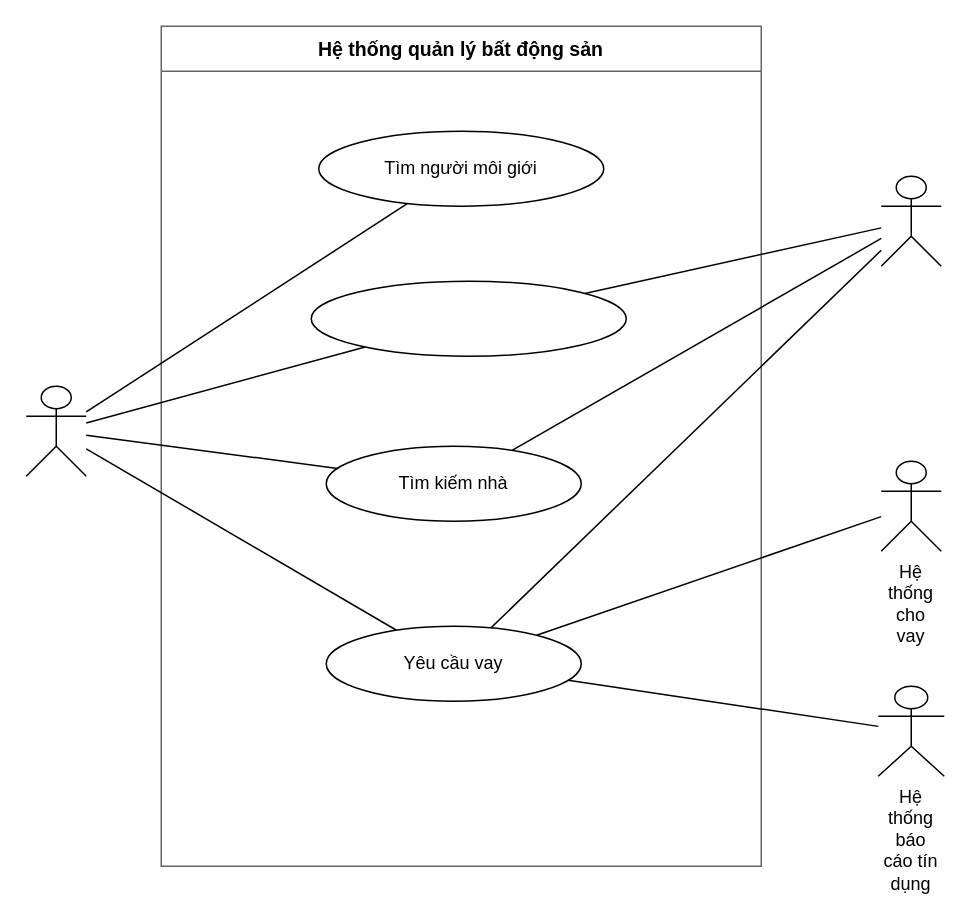
Some shapes in this 971 by 921 pixel diagram are drawn without their labels. Each missing label, with the centre of its shape:
Hệ thống E-mail: the point at 910,220
Người mua: the point at 55,430
Quản lý hồ sơ cá nhân: the point at 468,318
